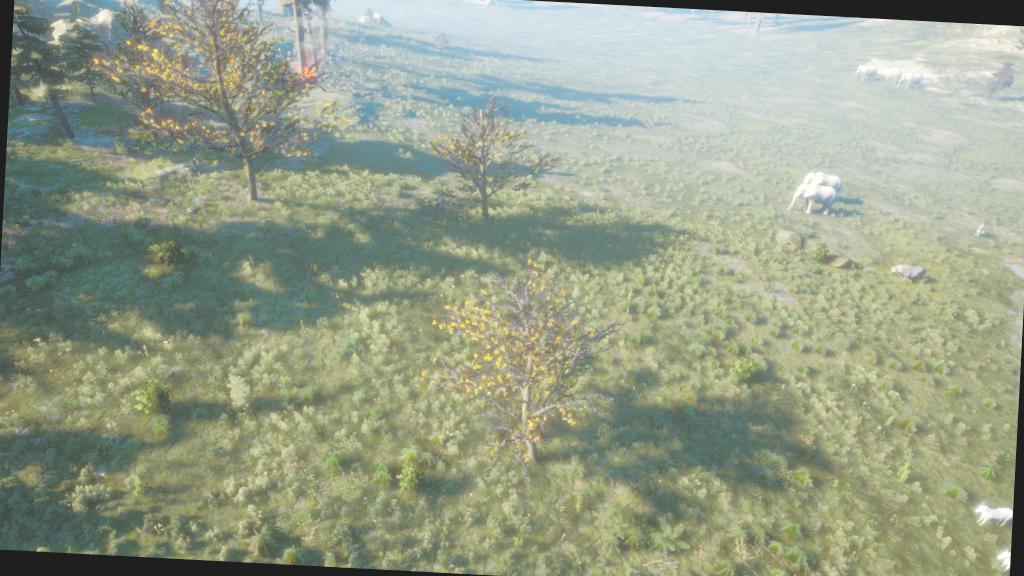Fire: (283, 53, 322, 92)
elephant: (784, 180, 840, 222), (796, 170, 850, 198), (849, 61, 882, 85), (896, 72, 928, 96), (883, 66, 908, 86)
hippopotamus: (886, 260, 930, 290)
human: (968, 219, 991, 244)
zebra: (969, 494, 1013, 538)
